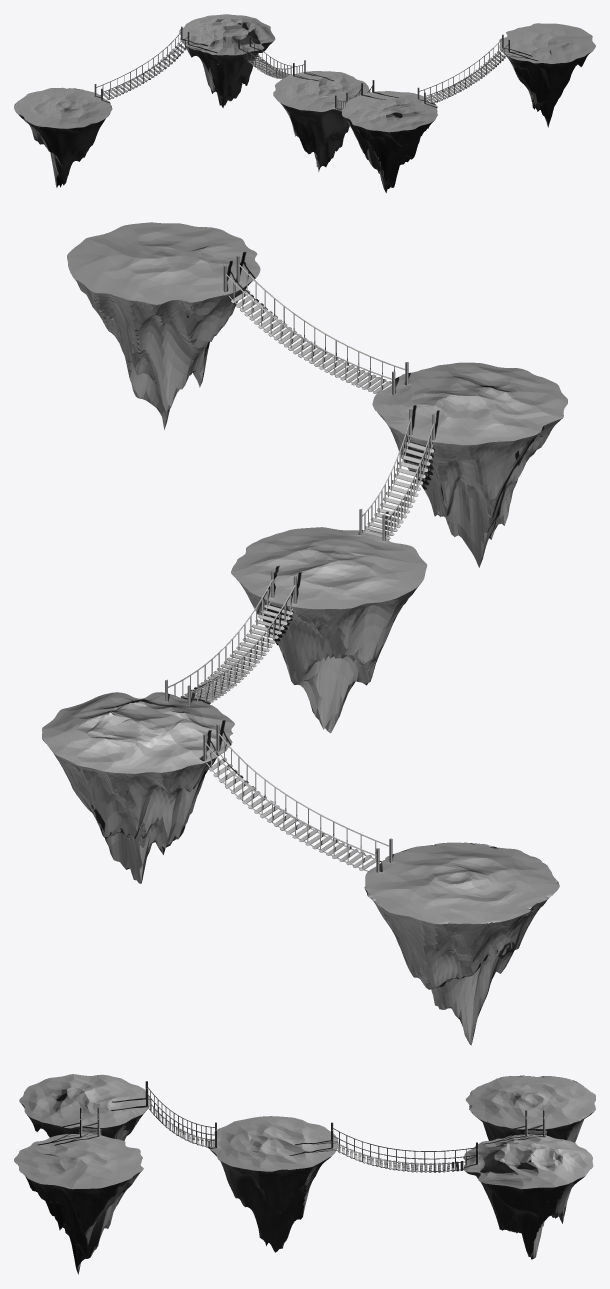
The model's file is malice.glb.
The picture shows the model from 3 angles, top to bottom: view 1: azimuth 30°, elevation 25°; view 2: azimuth 150°, elevation 25°; view 3: azimuth 270°, elevation 25°; orthographic projection. The views are drawn at different scales.
Parts seen in each view (by area): view 1: Landscape.004, Landscape.005, Landscape.002, Landscape.003, Landscape.001, Bridge.003, Bridge, Bridge.001; view 2: Landscape.003, Landscape.005, Landscape.002, Landscape.004, Landscape.001, Bridge.003, Bridge.001, Bridge, Bridge.002; view 3: Landscape.003, Landscape.005, Landscape.001, Landscape.002, Landscape.004, Bridge.001, Bridge.002, Bridge.003.
Boxes of the visible parts, <box> form: Landscape.004: <box>341,91,437,192</box>; Landscape.005: <box>499,23,595,127</box>; Landscape.002: <box>14,87,112,187</box>; Landscape.003: <box>273,71,369,172</box>; Landscape.001: <box>179,14,275,107</box>; Bridge.003: <box>417,34,509,103</box>; Bridge: <box>94,26,189,100</box>; Bridge.001: <box>238,36,305,78</box>; Landscape.003: <box>231,527,427,733</box>; Landscape.005: <box>67,222,260,429</box>; Landscape.002: <box>364,842,559,1045</box>; Landscape.004: <box>372,362,567,567</box>; Landscape.001: <box>42,692,234,883</box>; Bridge.003: <box>223,256,408,395</box>; Bridge.001: <box>165,570,296,705</box>; Bridge: <box>203,724,392,872</box>; Bridge.002: <box>359,409,434,540</box>; Landscape.003: <box>208,1116,338,1252</box>; Landscape.005: <box>14,1133,143,1274</box>; Landscape.001: <box>463,1134,593,1259</box>; Landscape.002: <box>465,1075,595,1142</box>; Landscape.004: <box>19,1074,150,1140</box>; Bridge.001: <box>331,1122,478,1172</box>; Bridge.002: <box>145,1081,217,1148</box>; Bridge.003: <box>79,1107,101,1136</box>.
Bounding box in the file's own units: 122 × 59.06 × 114.
9 materials, 9 textured.
